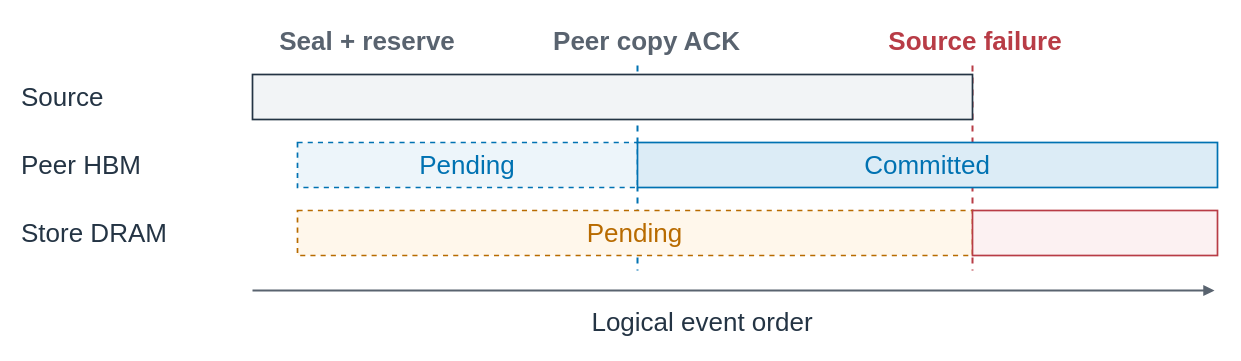
The diagram is 1241 pixels wide and 361 high, and some of its shapes have lost their labels. Each missing label, with the centre of its shape:
Aborted: the point at 1094,232
Sealed buffers readable: the point at 612,96
